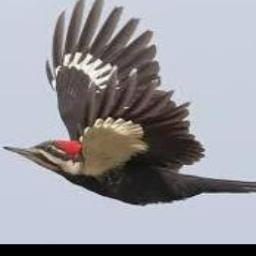Woodpecker: (1, 0, 256, 204)
